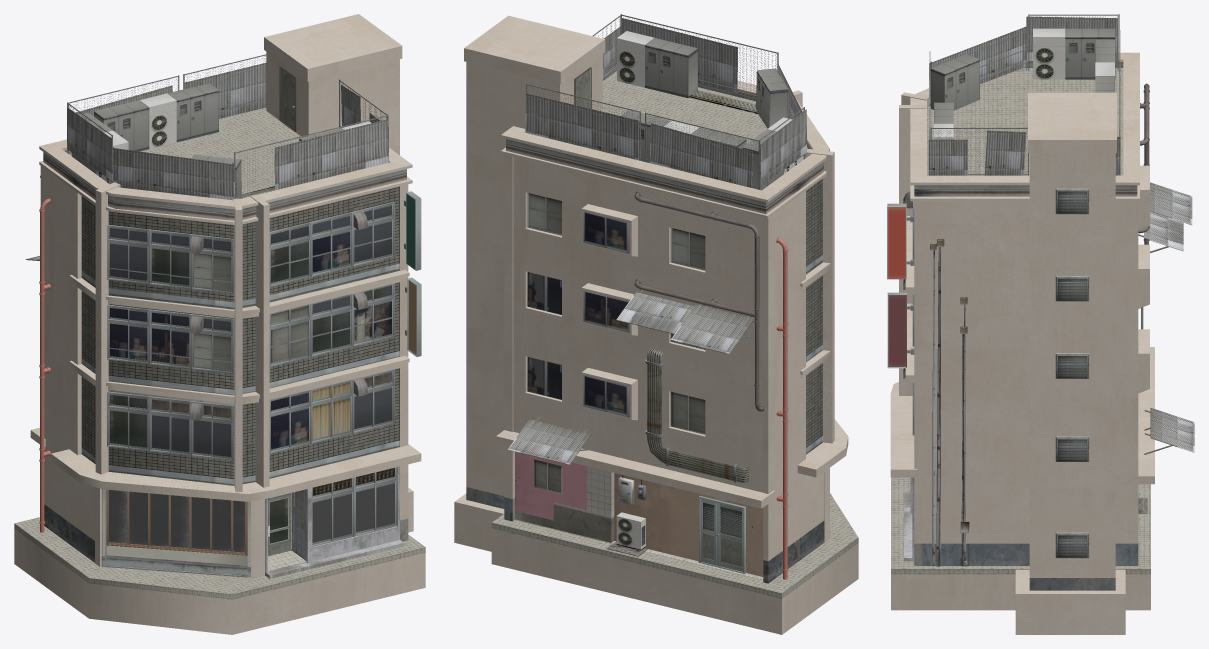
The model's file is large_building_corner_1.fbx.
3 views of the same model, side by side, from view 1: azimuth 30°, elevation 25°; view 2: azimuth 150°, elevation 25°; view 3: azimuth 270°, elevation 25° (orthographic). The views are drawn at different scales.
Parts seen in each view (by area): view 1: large_building_corner_1; view 2: large_building_corner_1; view 3: large_building_corner_1.
Boxes of the visible parts, bbox=[...] form: large_building_corner_1: bbox=[14, 14, 425, 634]; large_building_corner_1: bbox=[454, 14, 858, 634]; large_building_corner_1: bbox=[887, 14, 1194, 634].
Bounding box in the file's own units: 1340 × 1048 × 1854.
Materials: 12 (12 with a texture image).
